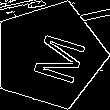M_W: (17, 25, 82, 85)
